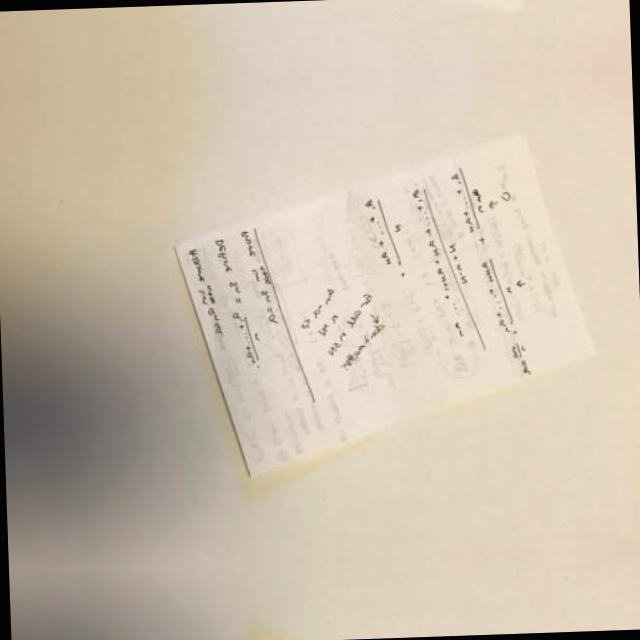paper: (144, 119, 605, 487), (140, 0, 590, 35), (162, 627, 611, 640)
